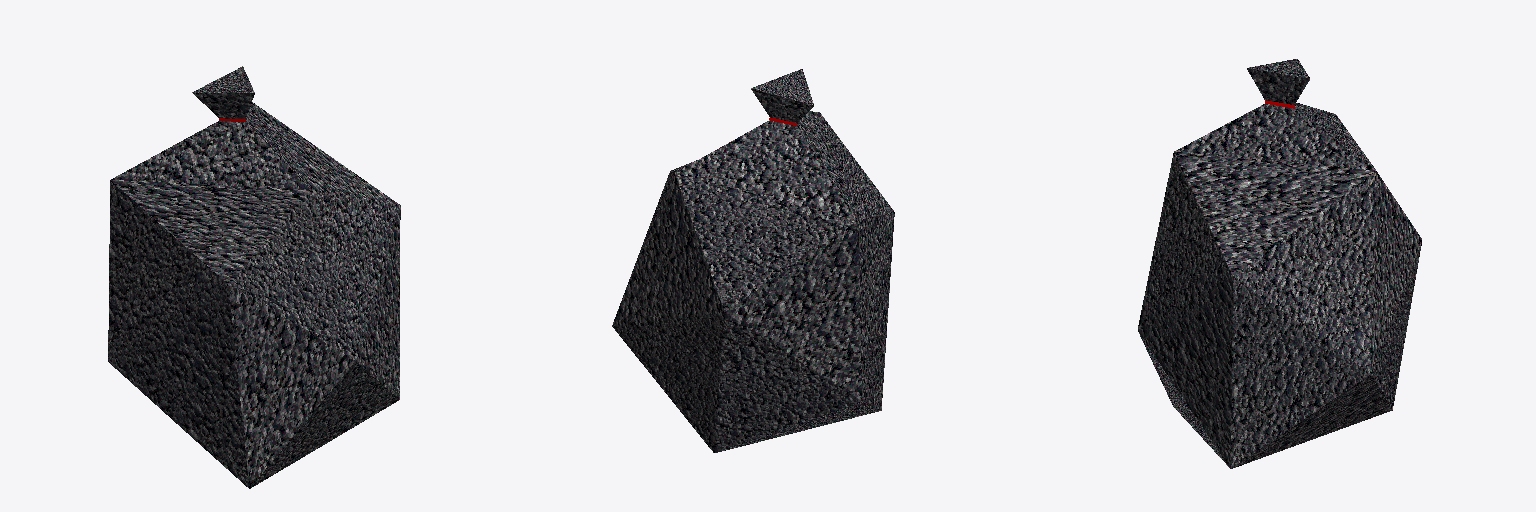
3 renders of one model, left to right at view 1: azimuth 30°, elevation 25°; view 2: azimuth 150°, elevation 25°; view 3: azimuth 270°, elevation 25°, orthographic.
Parts seen in each view (by area): view 1: binbag; view 2: binbag; view 3: binbag.
Part boxes in pixels (x1,y1,x2,y2): binbag: (108,66,400,488); binbag: (612,69,894,452); binbag: (1138,59,1421,468).
Bounding box in the file's own units: 2.17 × 3.07 × 2.21.
2 materials, 1 textured.